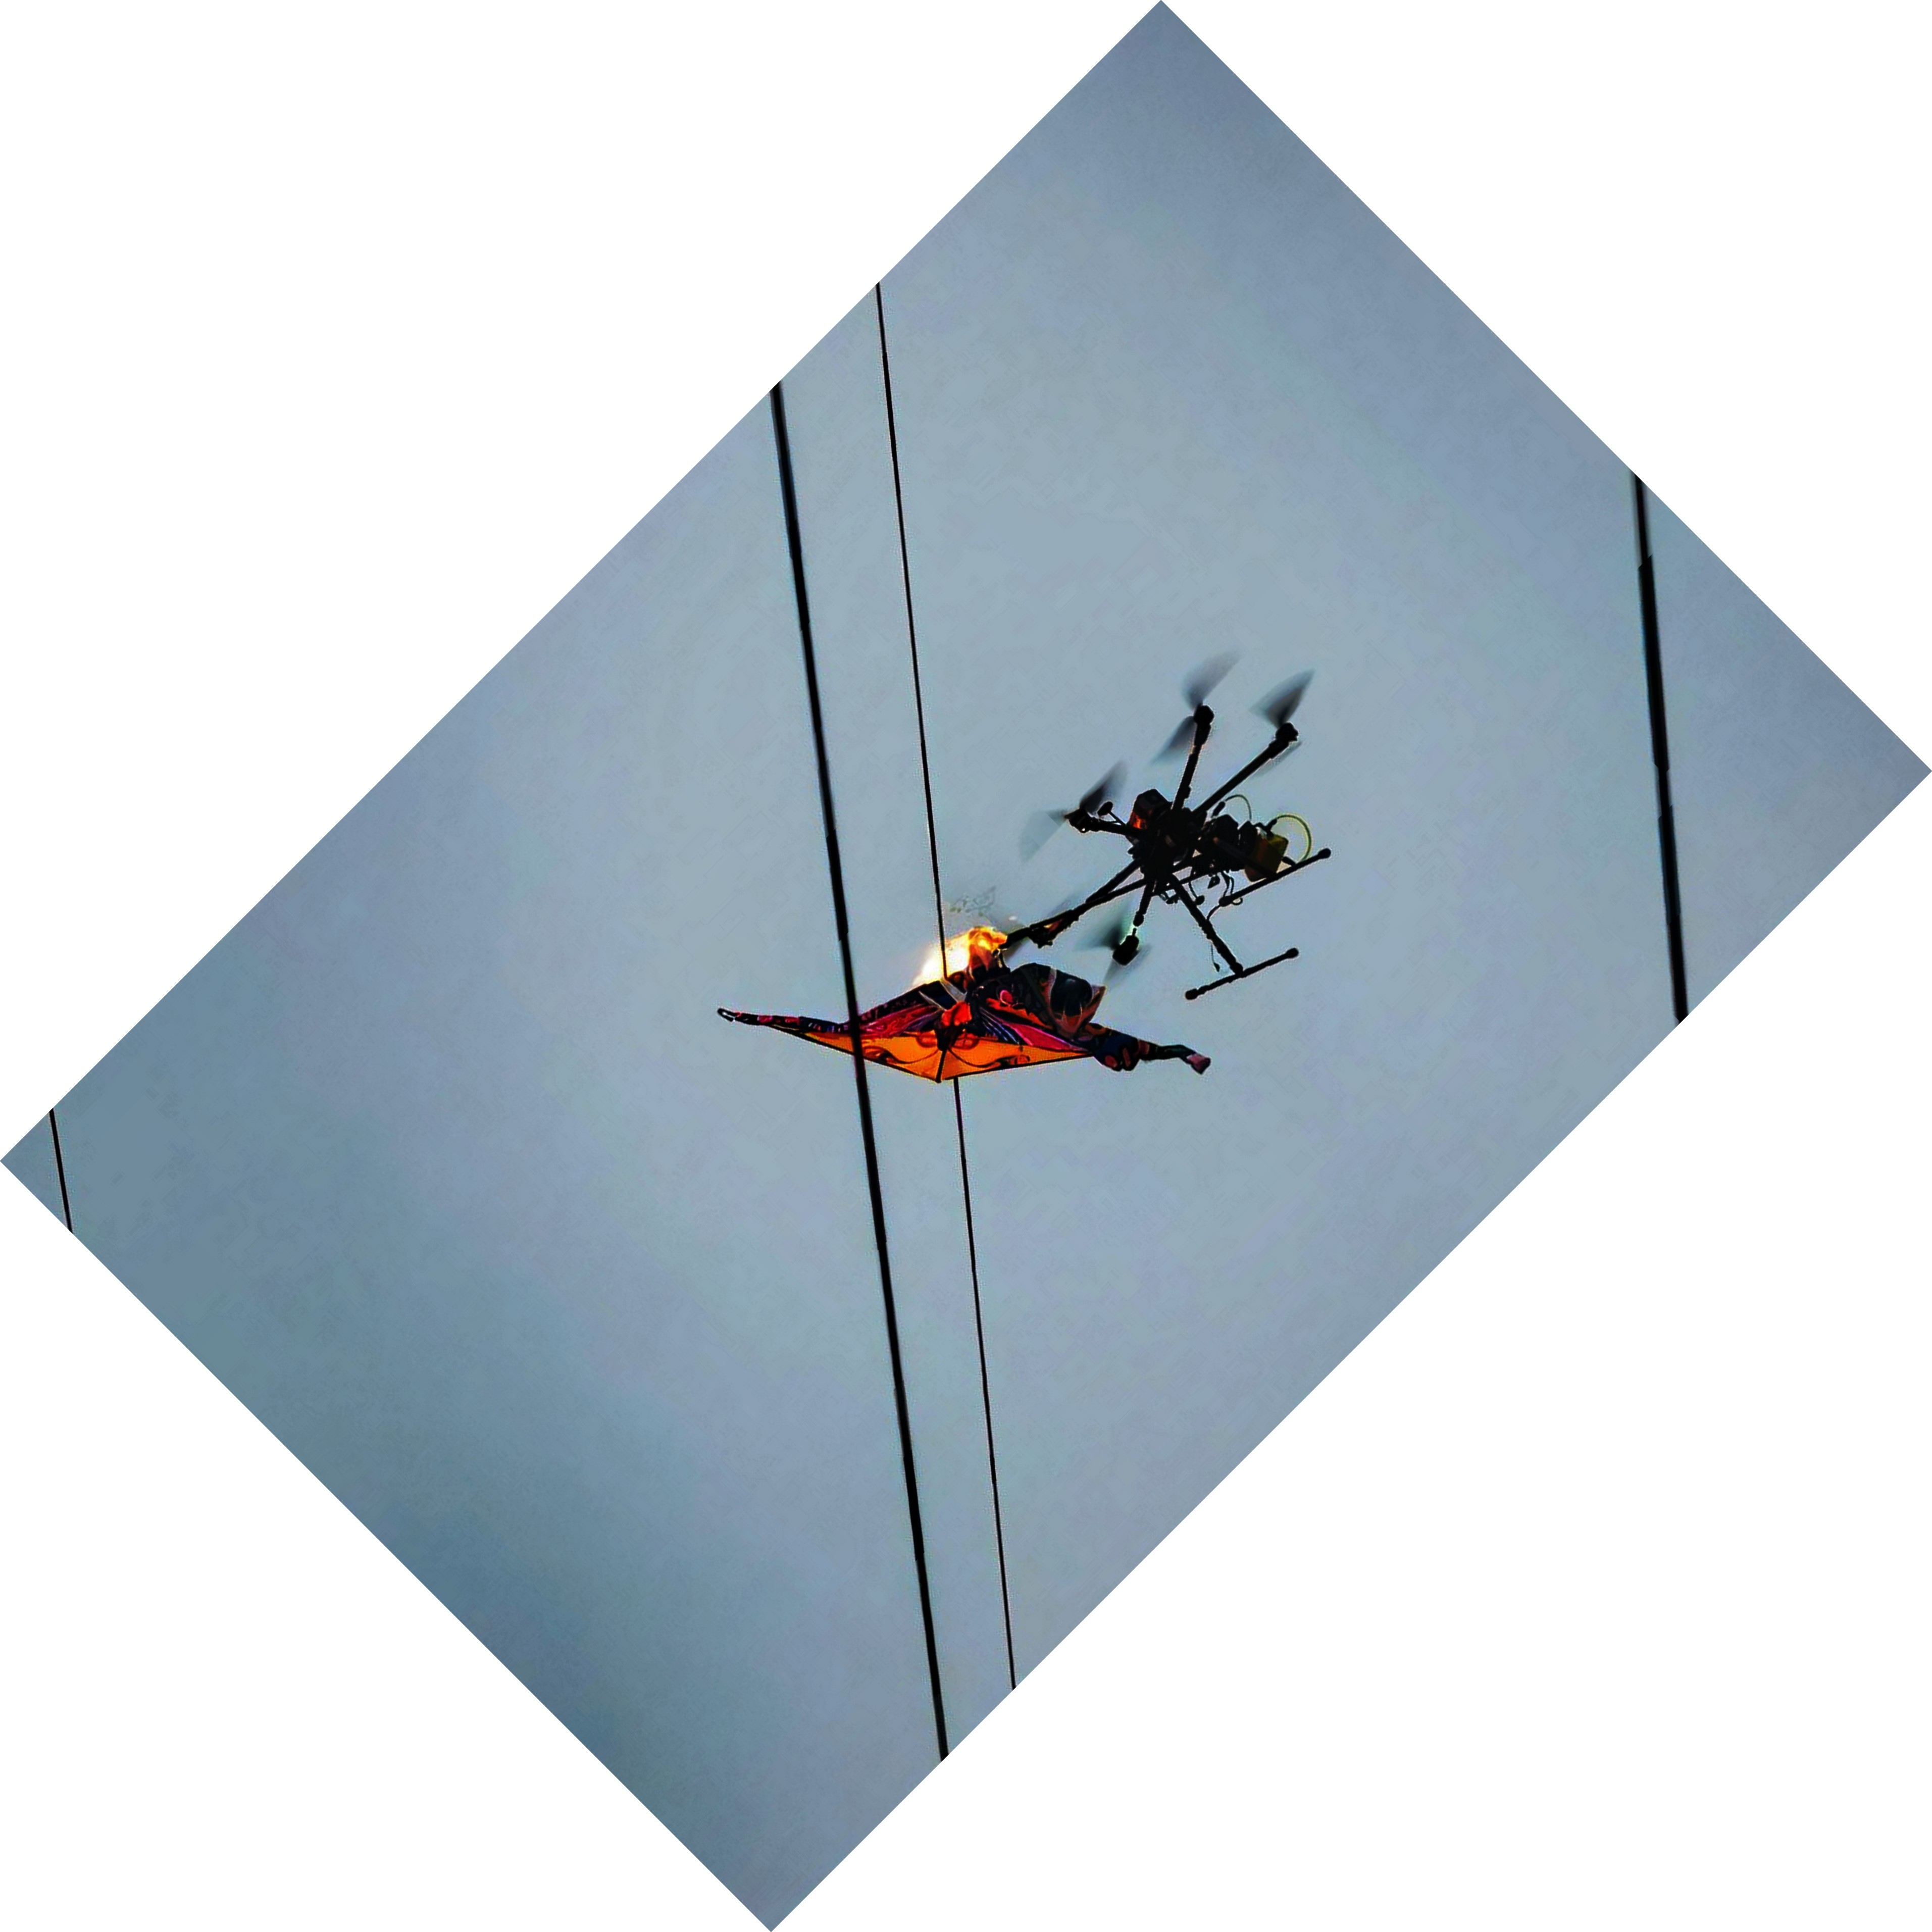wire foreign body: (722, 915, 1233, 1138)
